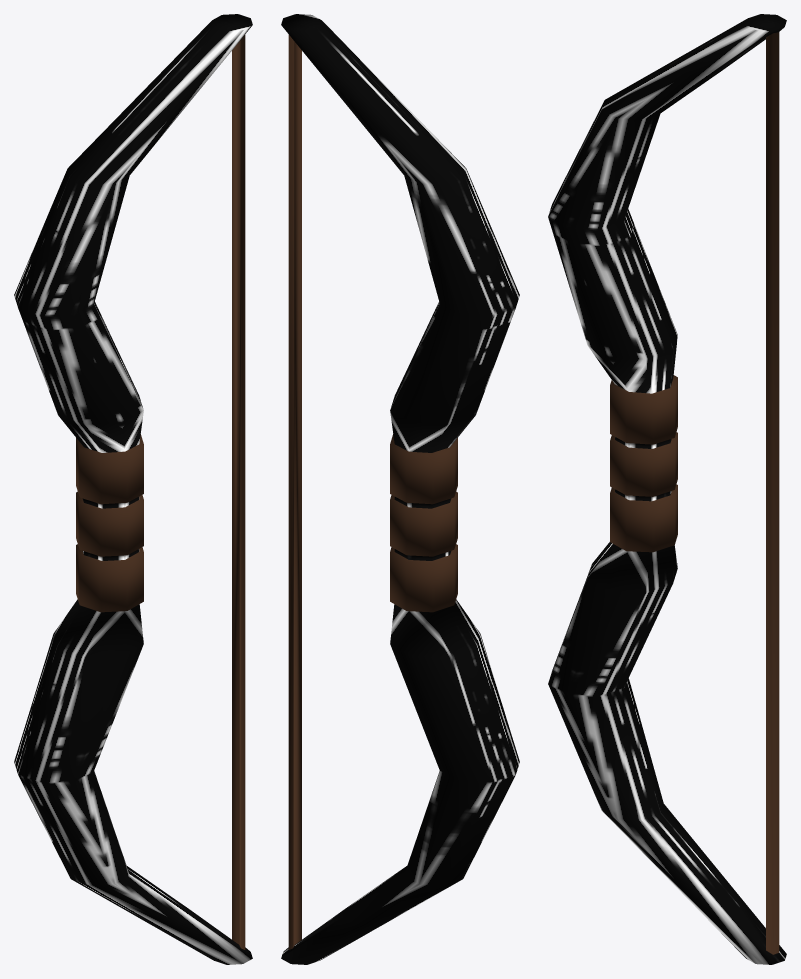
Rendered from Bow.fbx.
The picture shows the model from 3 angles, left to right: view 1: azimuth 30°, elevation 25°; view 2: azimuth 150°, elevation 25°; view 3: azimuth 330°, elevation 25°; orthographic projection.
Parts seen in each view (by area): view 1: Bow; view 2: Bow; view 3: Bow.
Boxes of the visible parts, x1,y1,x2,y2 form: Bow: (14, 14, 252, 964); Bow: (281, 14, 519, 964); Bow: (548, 14, 786, 964).
Bounding box in the file's own units: 52.15 × 200 × 18.17.
